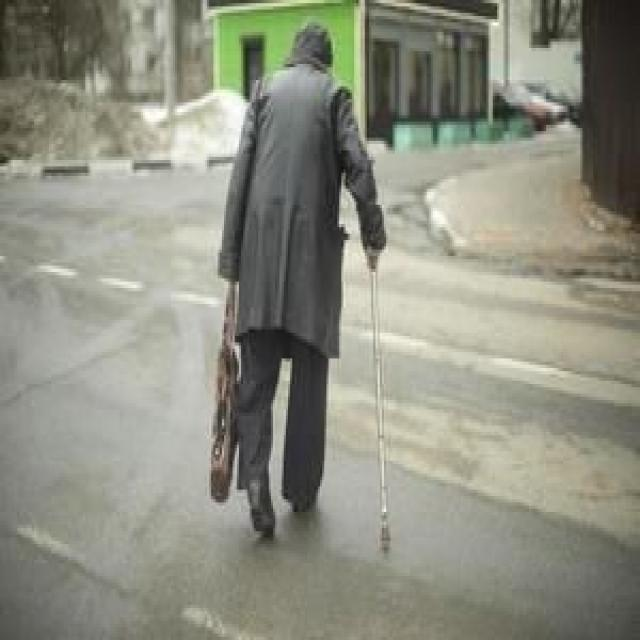idoso em pe: (213, 26, 379, 555)
